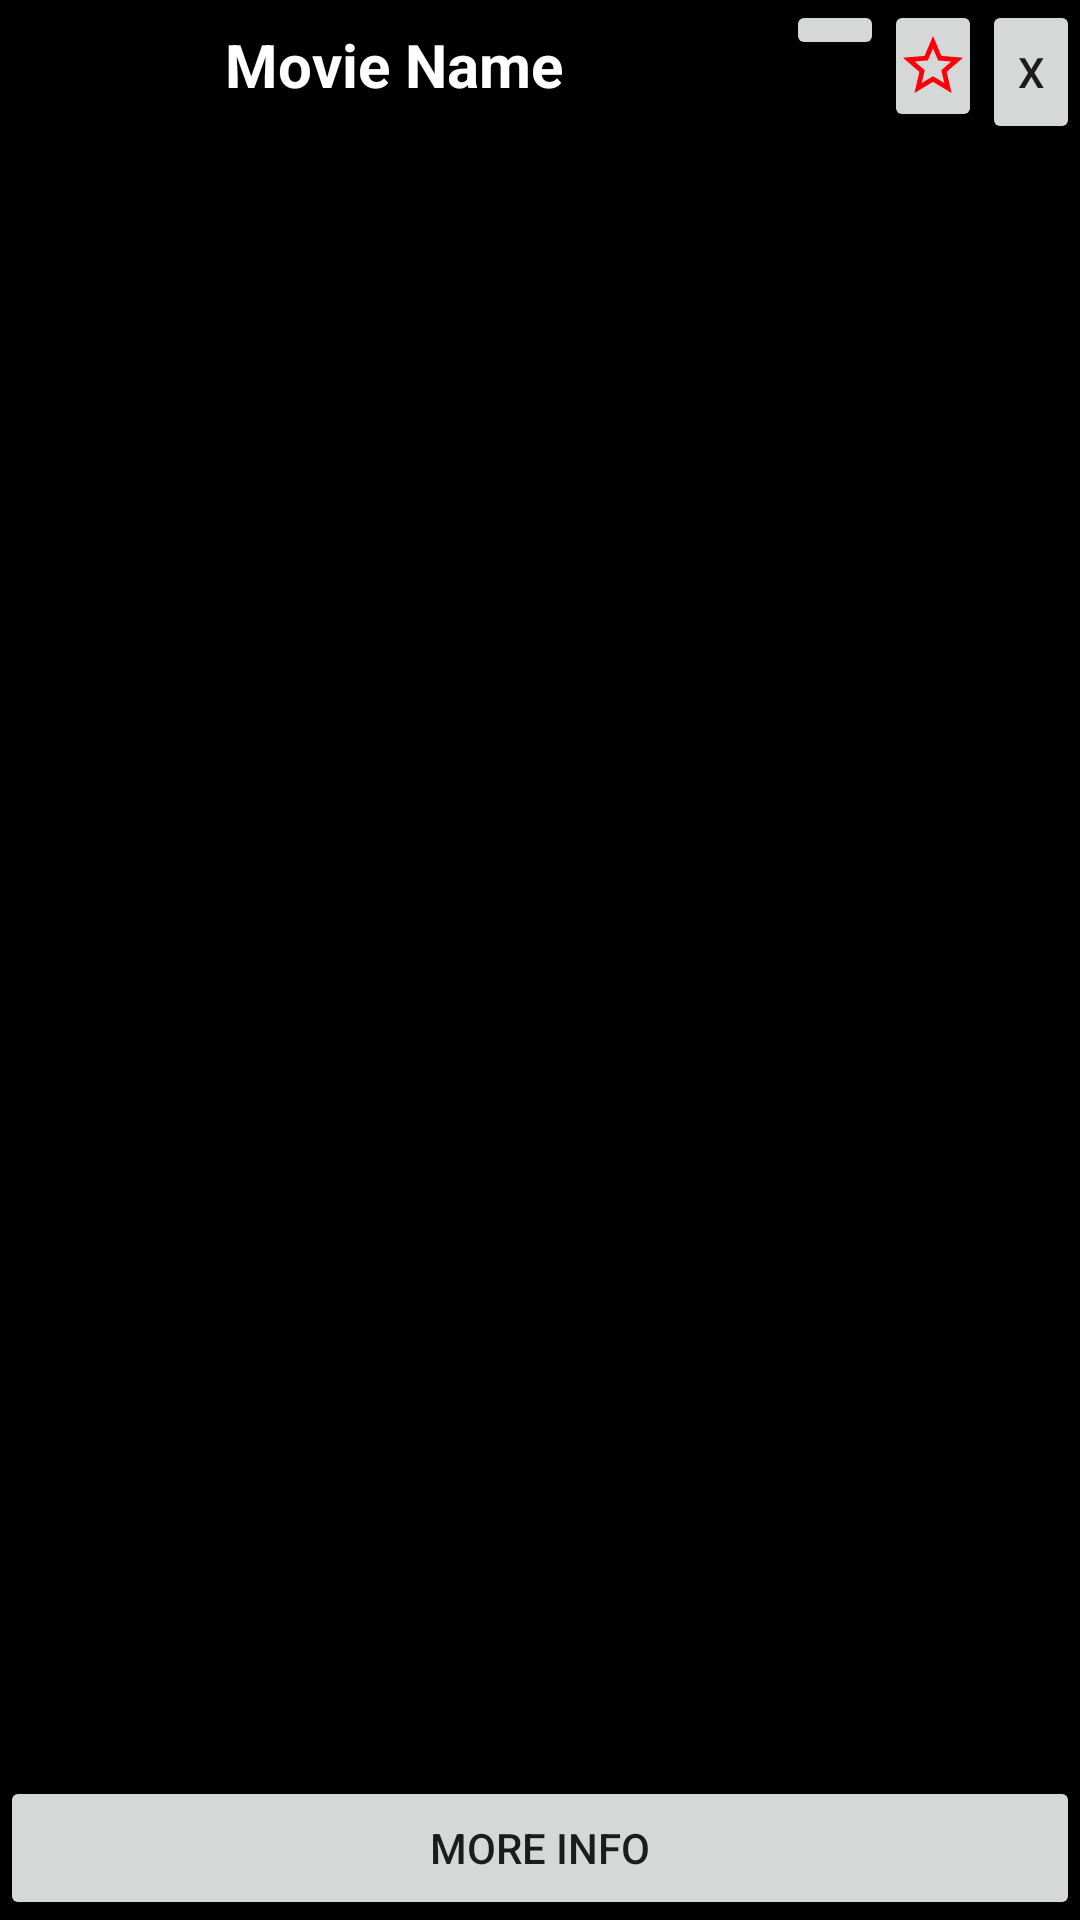

Screen size 1080 x 1920. Icon name, then its box in pixels as (x1, y1, x2, y2):
star border: (896, 18, 970, 114)
